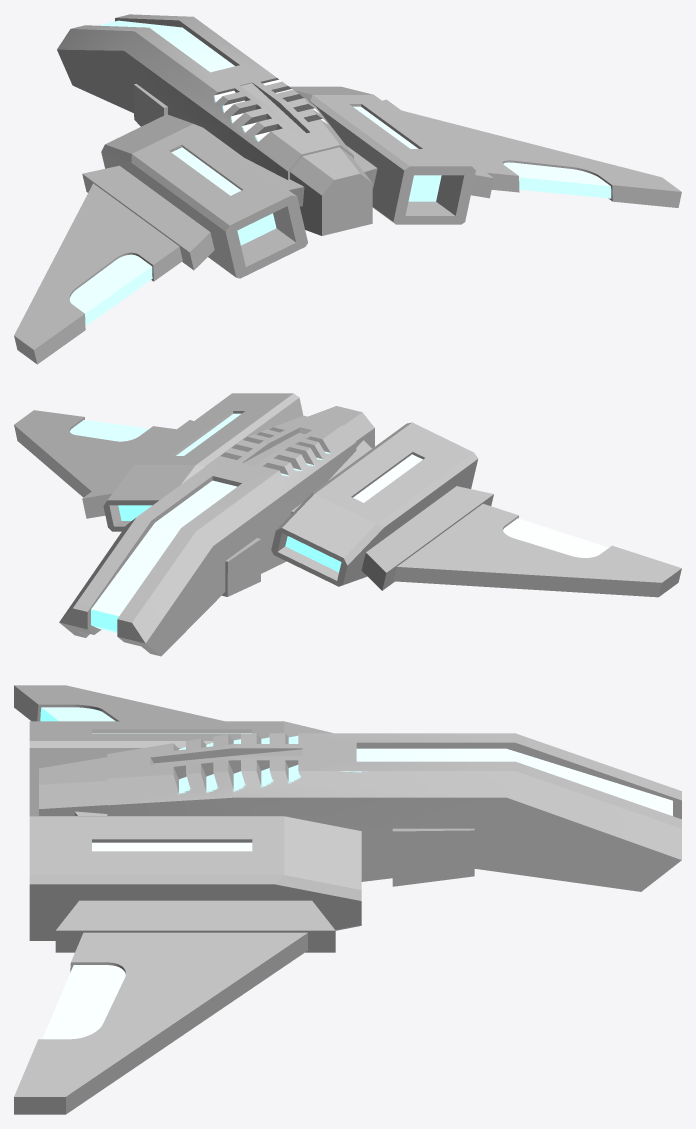
The model's file is playership.fbx.
The picture shows the model from 3 angles, top to bottom: view 1: azimuth 30°, elevation 25°; view 2: azimuth 150°, elevation 25°; view 3: azimuth 270°, elevation 25°; orthographic projection. The views are drawn at different scales.
Parts seen in each view (by area): view 1: PlayerShip; view 2: PlayerShip; view 3: PlayerShip.
Boxes of the visible parts, left/top/right/bottom form: PlayerShip: left=14, top=14, right=681, bottom=364; PlayerShip: left=14, top=393, right=681, bottom=656; PlayerShip: left=14, top=685, right=681, bottom=1114.
Bounding box in the file's own units: 421 × 75.4 × 289.
